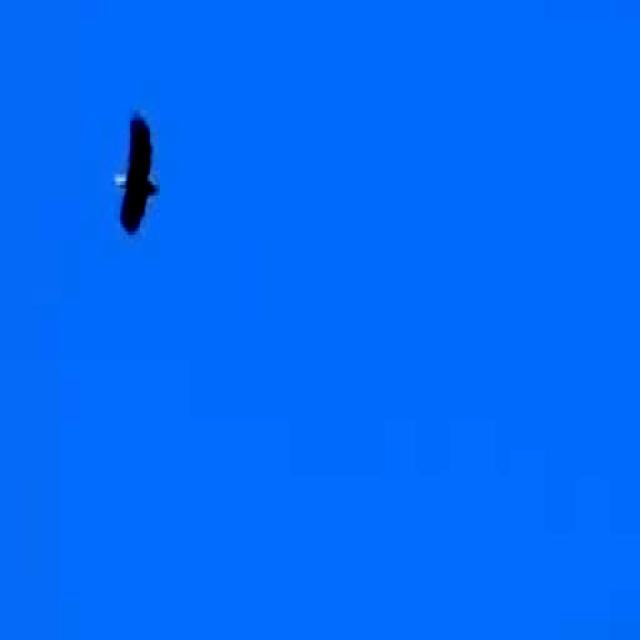airplane: (104, 104, 174, 246)
